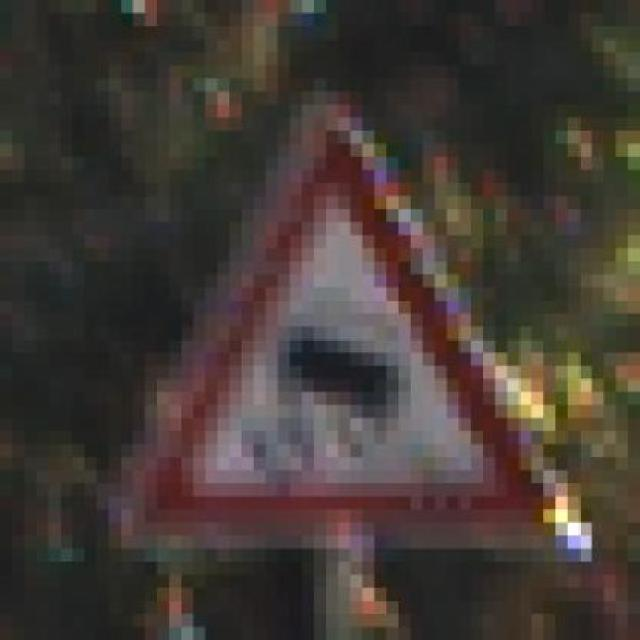Slippery Road Ahead: (84, 92, 556, 536)
